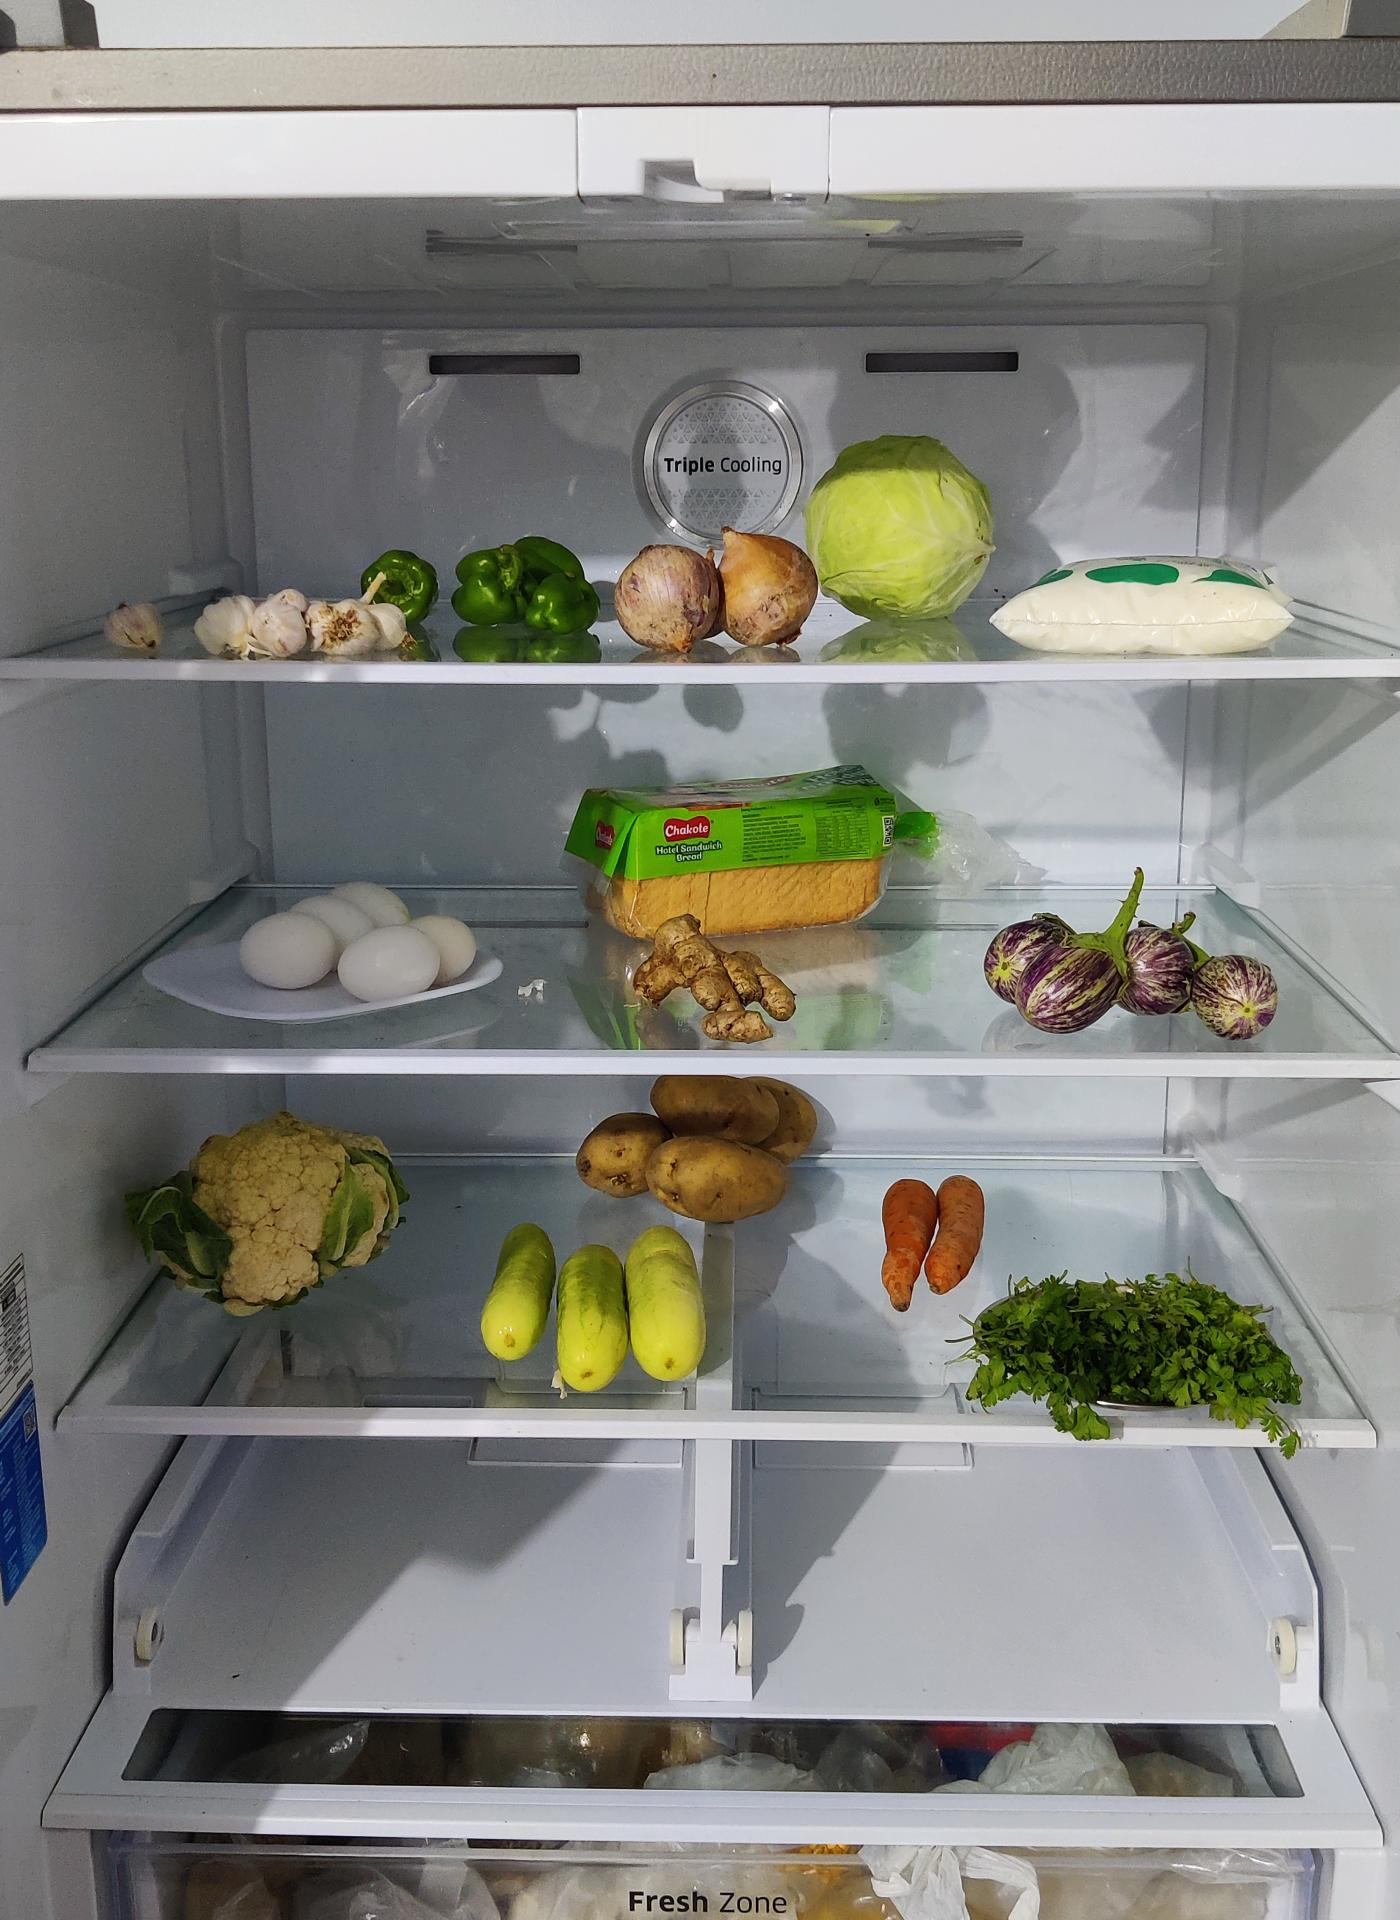bread: (576, 768, 929, 936)
brinjal: (981, 890, 1290, 1029)
cabbage: (807, 431, 996, 619)
capsicum: (398, 538, 625, 659)
carrots: (874, 1178, 984, 1312)
cauliflower: (148, 1106, 412, 1303)
coriander: (969, 1272, 1303, 1419)
cucumber: (480, 1224, 711, 1391), (482, 1222, 561, 1364)
egg: (249, 881, 483, 1006)
garlic: (198, 586, 417, 662)
ginger: (631, 918, 795, 1039)
milk: (991, 555, 1300, 659)
onion: (613, 510, 811, 648)
potato: (576, 1076, 817, 1221)
